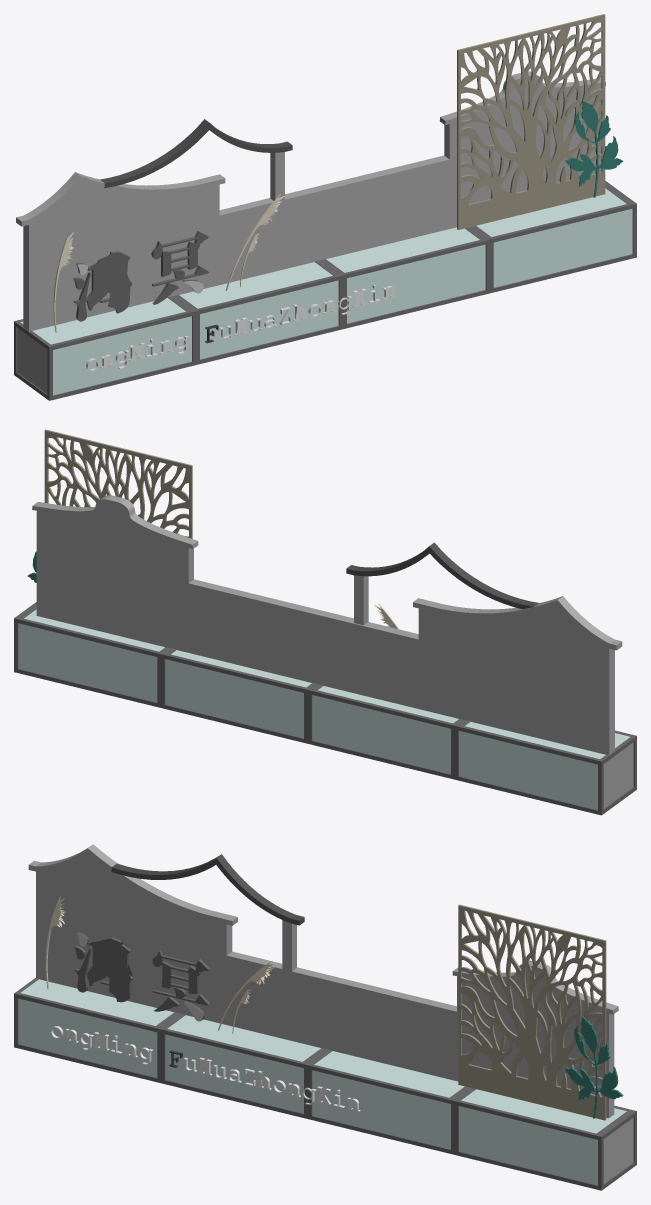
The picture shows the model from 3 angles, top to bottom: view 1: azimuth 30°, elevation 25°; view 2: azimuth 150°, elevation 25°; view 3: azimuth 330°, elevation 25°; orthographic projection.
Visible parts, largest first — view 1: ___4_25; view 2: ___4_25; view 3: ___4_25.
Part boxes in pixels (box(x1,y1,x2,y2)): ___4_25: box(14, 14, 636, 400); ___4_25: box(14, 429, 636, 815); ___4_25: box(14, 844, 636, 1190).
Bounding box in the file's own units: 488 × 182 × 51.46.
